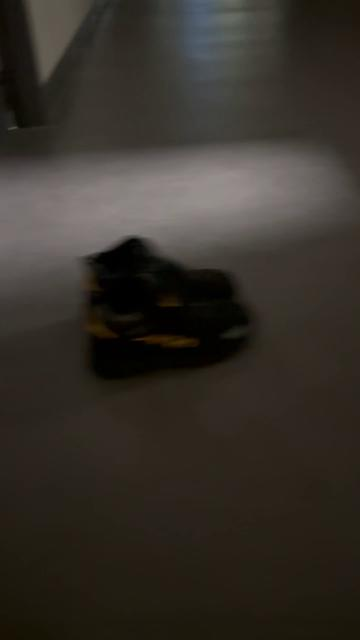shoe_worn: (83, 289, 258, 383), (77, 234, 241, 298)
